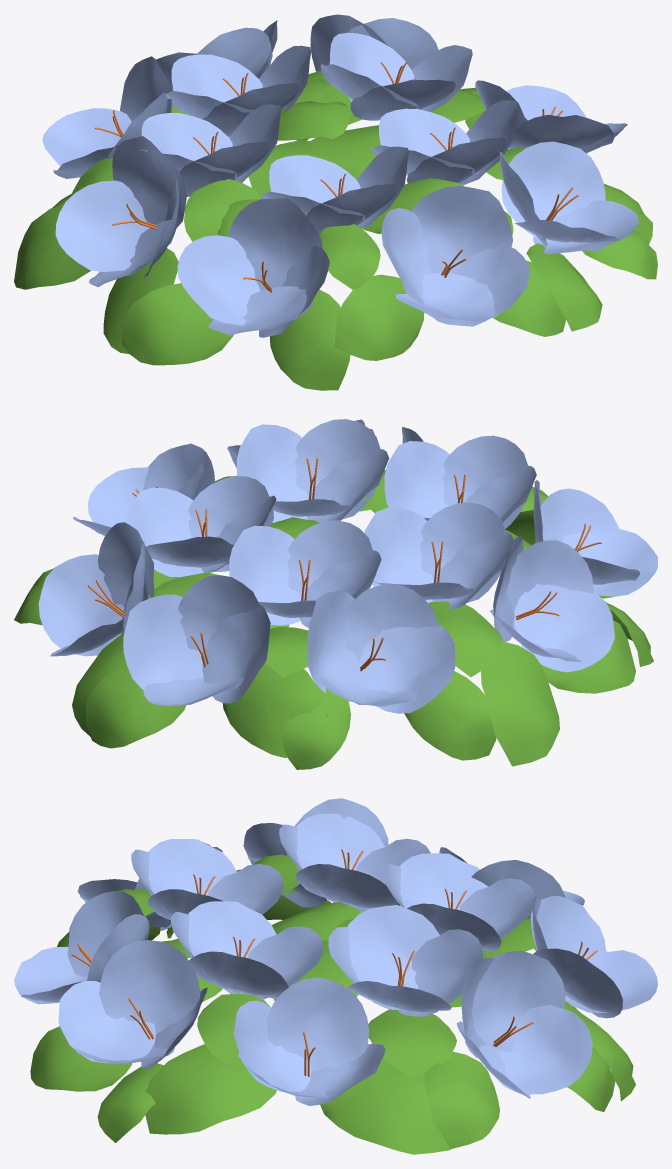
File: blueFlower2.fbx
3 renders of one model, top to bottom at view 1: azimuth 30°, elevation 25°; view 2: azimuth 150°, elevation 25°; view 3: azimuth 270°, elevation 25°, orthographic.
Parts seen in each view (by area): view 1: petal7, petal8, petal9, petal6, petal13, petal17, petal16, petal14, petal15, petal10, leaf11, leaf13 (+20 smaller); view 2: petal10, petal11, petal9, petal17, petal15, petal14, petal12, petal13, petal16, petal8, leaf9, petal5 (+13 smaller); view 3: petal12, petal5, petal6, petal13, petal17, petal11, petal14, petal15, petal16, petal7, leaf, leaf2 (+15 smaller).
Boxes of the visible parts, box(x1,y1,x2,y2) form: petal7: box(381, 185, 529, 326); petal8: box(177, 198, 329, 337); petal9: box(55, 136, 186, 287); petal6: box(499, 141, 638, 254); petal13: box(320, 32, 472, 120); petal17: box(371, 100, 518, 185); petal16: box(261, 146, 408, 234); petal14: box(163, 45, 311, 136); petal15: box(140, 104, 281, 196); petal10: box(42, 56, 171, 178); leaf11: box(122, 283, 233, 365); leaf13: box(334, 274, 424, 360); petal10: box(307, 583, 455, 713); petal11: box(123, 575, 270, 706); petal9: box(490, 536, 614, 672); petal17: box(237, 419, 389, 522); petal15: box(364, 502, 513, 609); petal14: box(229, 520, 381, 627); petal12: box(38, 522, 154, 656); petal13: box(126, 476, 276, 577); petal16: box(384, 435, 536, 529); petal8: box(533, 480, 657, 596); leaf9: box(481, 641, 559, 766); petal5: box(73, 443, 214, 535); petal12: box(456, 950, 592, 1098); petal5: box(233, 977, 385, 1105); petal6: box(58, 940, 207, 1068); petal13: box(328, 905, 483, 1016); petal17: box(171, 901, 323, 1000); petal11: box(530, 896, 657, 1018); petal14: box(382, 853, 534, 951); petal15: box(279, 813, 430, 912); petal16: box(131, 839, 283, 920); petal7: box(14, 891, 149, 1004); leaf: box(145, 1044, 276, 1134); leaf2: box(320, 1058, 450, 1154).
Bounding box in the file's own units: 5.79 × 1.83 × 6.15.
